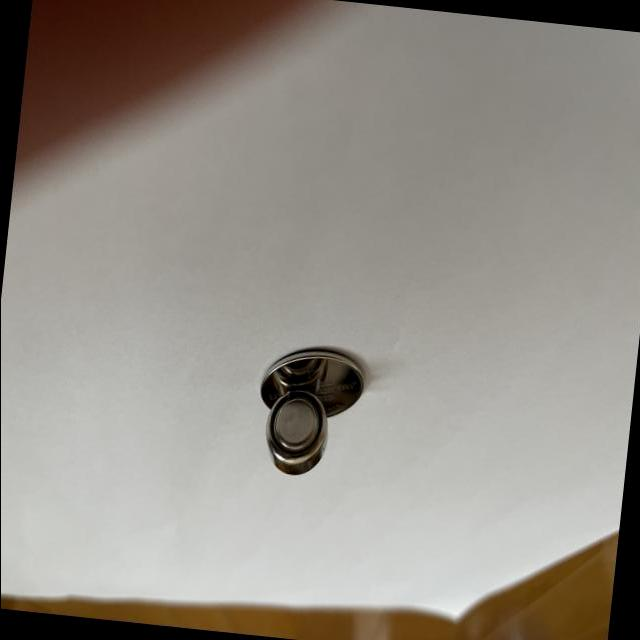COIN: (258, 344, 366, 427), (261, 388, 333, 474)
